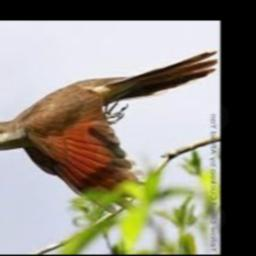Cuckoo: (0, 49, 217, 212)
